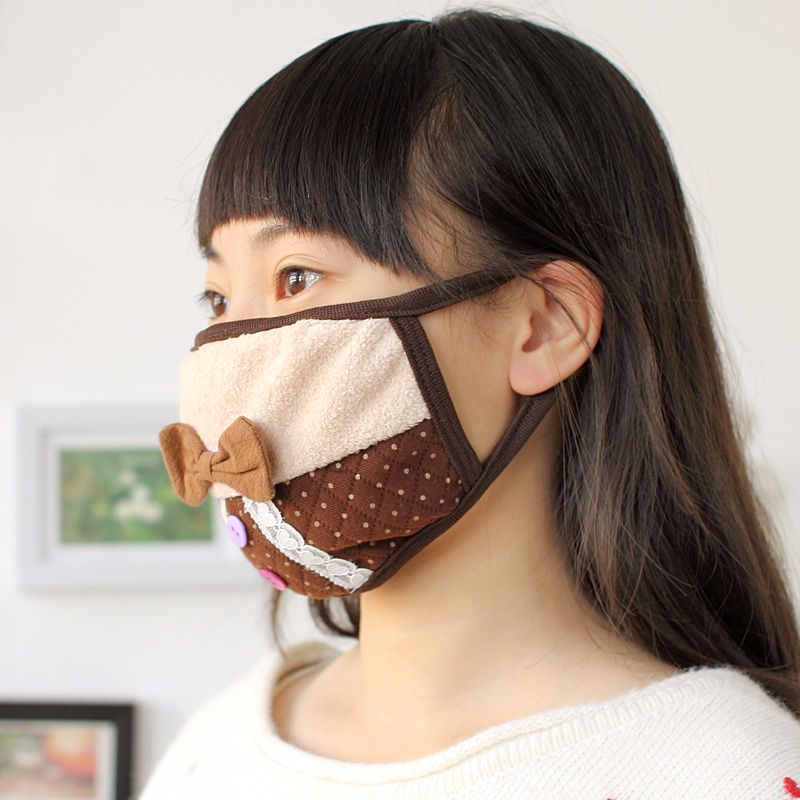face_mask: (206, 141, 498, 527)
